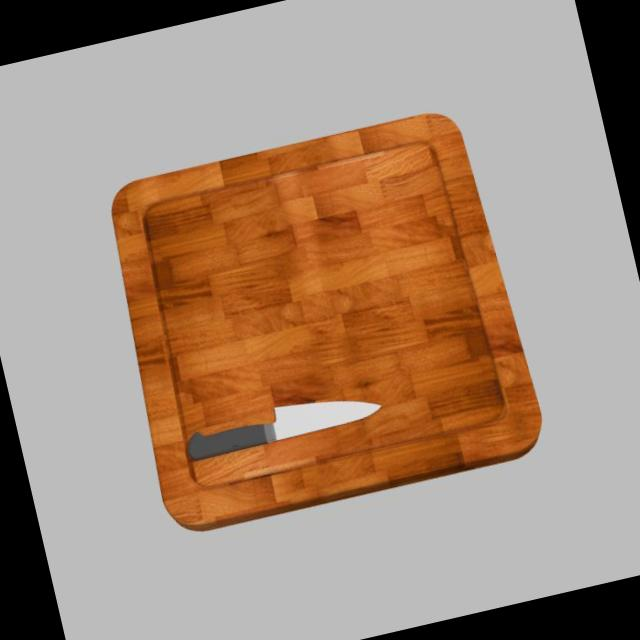knife: (184, 418, 268, 462)
